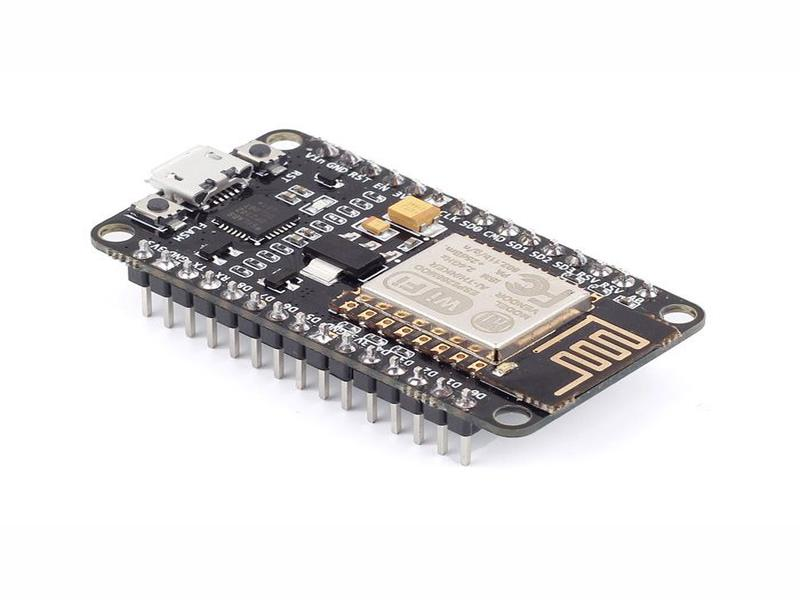ESP8266: (81, 129, 706, 468)
